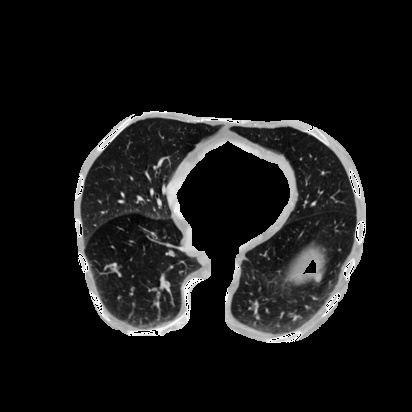PN: (315, 275, 321, 281)
